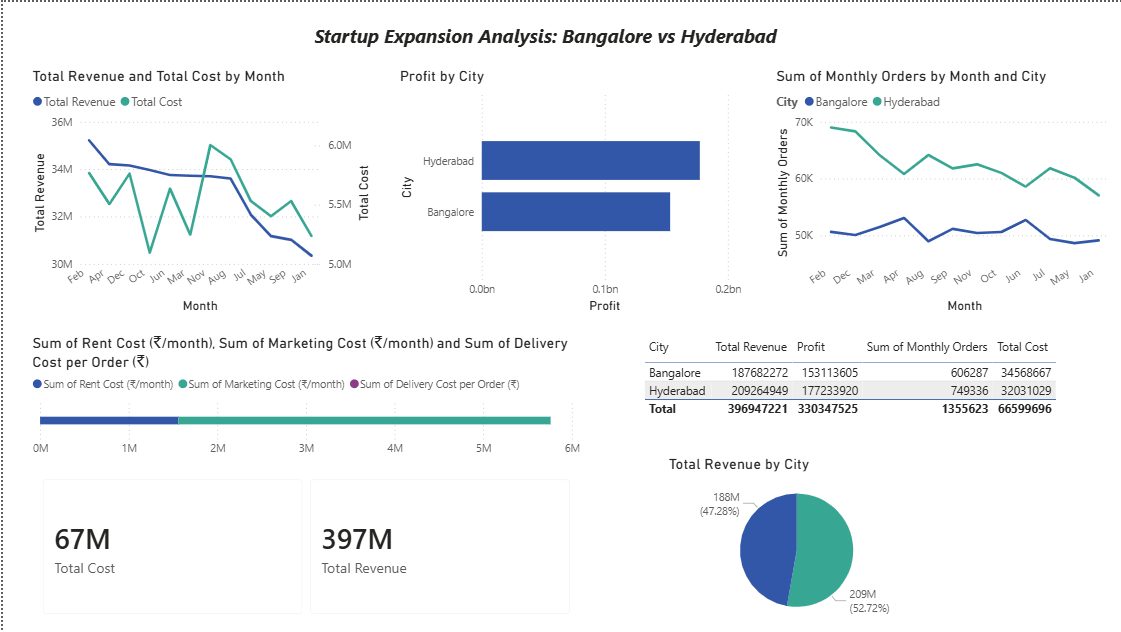

The page's visual inventory and layout, read from the dashboard file:
{"tool":"powerbi","page":{"name":"Page 1","canvas":[1280,720],"ordinal":0},"visuals":[{"type":"lineChart","fields":{"Category":["Expansion_Data.Month"],"Y":["Sum(Expansion_Data.Monthly Orders)"],"Series":["Expansion_Data.City"]},"box":[878.6,74.3,390,285.7],"z":0},{"type":"clusteredBarChart","fields":{"Category":["Expansion_Data.City"],"Y":["Expansion_Data.Profit"]},"box":[448.6,74.3,400,285.7],"z":1000},{"type":"lineChart","fields":{"Category":["Expansion_Data.Month"],"Y2":["Expansion_Data.Total Cost"],"Y":["Expansion_Data.Total Revenue"]},"box":[28.6,74.3,397.1,285.7],"z":2000},{"type":"tableEx","fields":{"Values":["Expansion_Data.City","Expansion_Data.Total Revenue","Expansion_Data.Profit","Sum(Expansion_Data.Monthly Orders)","Expansion_Data.Total Cost"]},"box":[727.1,378.6,492.9,141.4],"z":3000},{"type":"barChart","fields":{"Y":["Sum(Expansion_Data.Rent Cost (₹/month))","Sum(Expansion_Data.Marketing Cost (₹/month))","Sum(Expansion_Data.Delivery Cost per Order (₹))"]},"box":[28.6,378.6,635.7,150],"z":4000},{"type":"pieChart","fields":{"Category":["Expansion_Data.City"],"Y":["Expansion_Data.Total Revenue"]},"box":[755.7,517.1,390,200],"z":5000},{"type":"textbox","box":[1047,543,196,177],"z":6000},{"type":"textbox","box":[335.7,18.6,568.6,40],"z":7000},{"type":"cardVisual","fields":{"Data":["Expansion_Data.Total Cost","Expansion_Data.Total Revenue"]},"box":[29,529,636,188],"z":8000}]}

Visuals, with their boxes in screenshot pixels (x1, y1, x2, y2), scaled from the page's 1280x720 canvas onto the 1121x632 screenshot:
lineChart - Expansion_Data.Month x Sum(Expansion_Data.Monthly Orders): bbox(769, 65, 1111, 316)
clusteredBarChart - Expansion_Data.City x Expansion_Data.Profit: bbox(393, 65, 743, 316)
lineChart - Expansion_Data.Month x Expansion_Data.Total Cost: bbox(25, 65, 373, 316)
tableEx - Expansion_Data.City x Expansion_Data.Total Revenue: bbox(637, 332, 1068, 456)
barChart - Sum(Expansion_Data.Rent Cost (₹/month)) x Sum(Expansion_Data.Marketing Cost (₹/month)): bbox(25, 332, 582, 464)
pieChart - Expansion_Data.City x Expansion_Data.Total Revenue: bbox(662, 454, 1003, 629)
textbox: bbox(917, 477, 1089, 631)
textbox: bbox(294, 16, 792, 51)
cardVisual - Expansion_Data.Total Cost x Expansion_Data.Total Revenue: bbox(25, 464, 582, 629)
